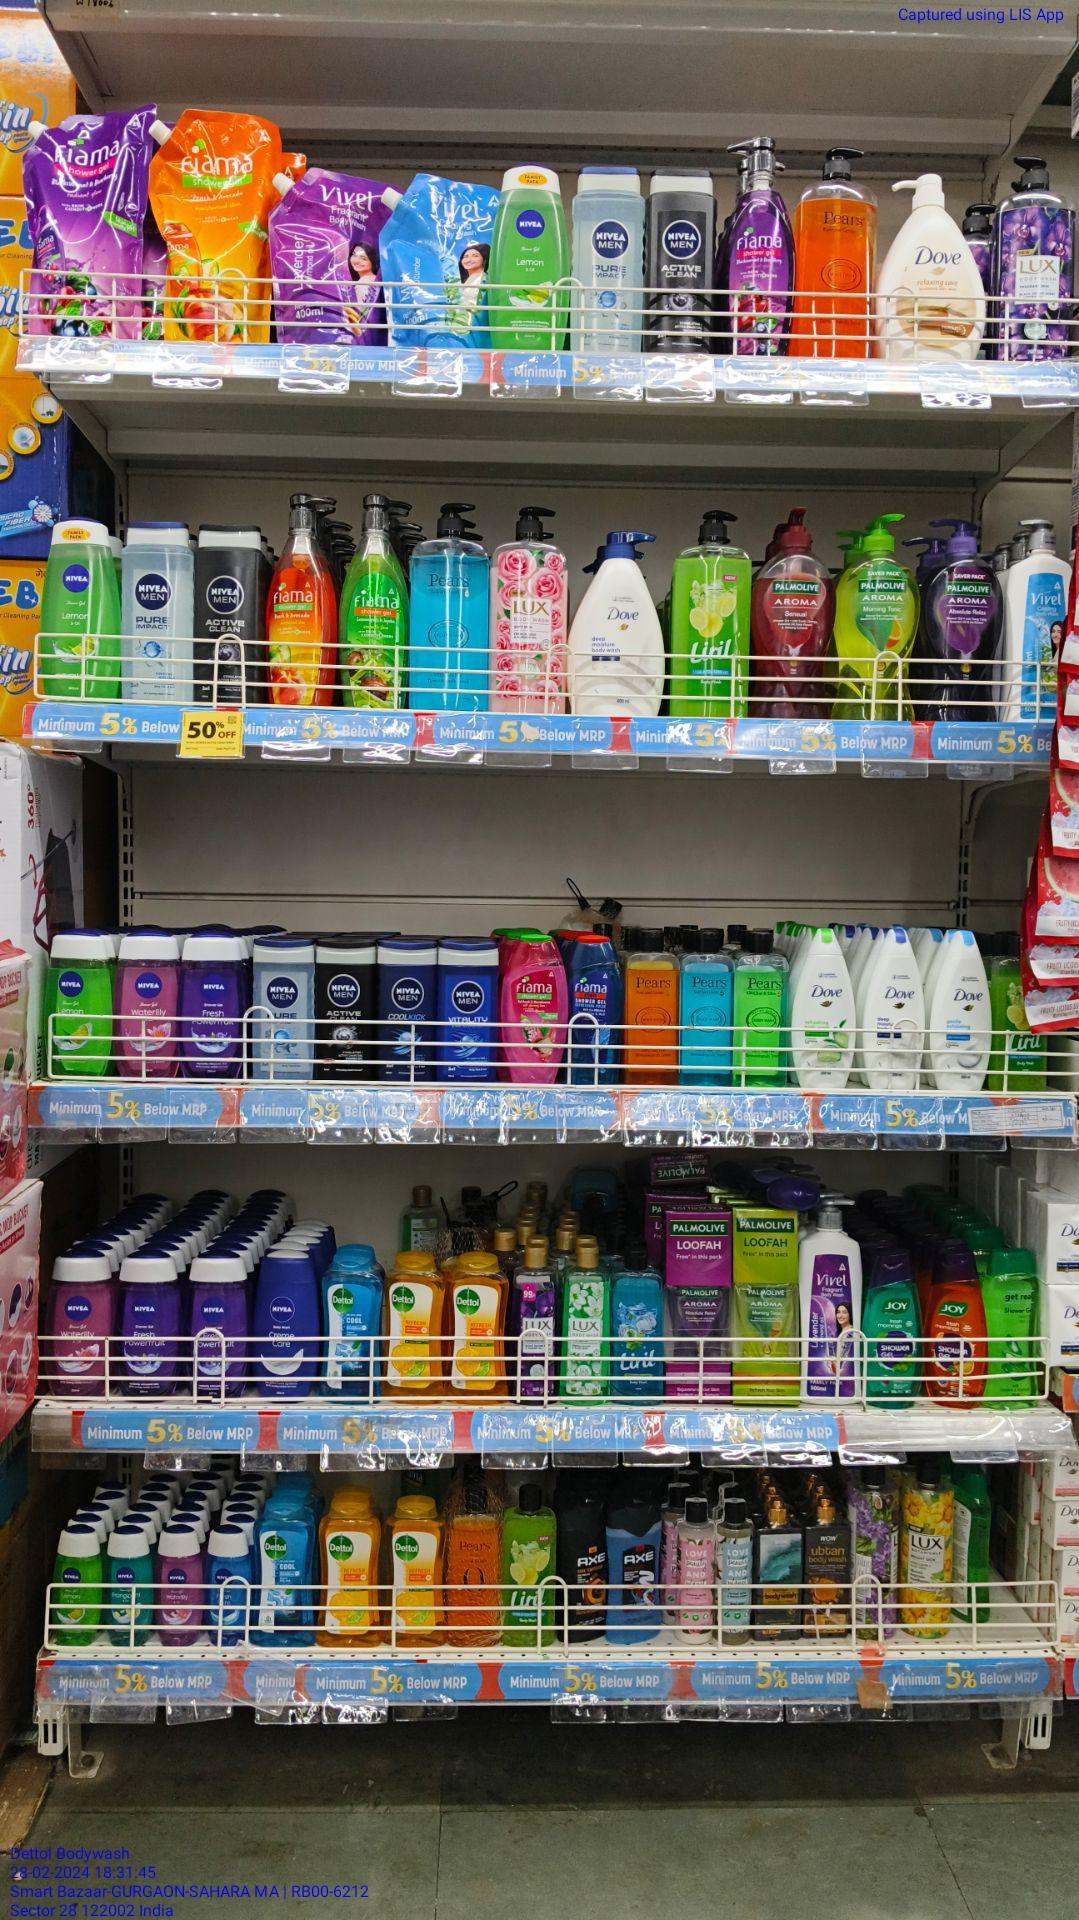Dettol_Bodywash_Cool: (253, 1494, 311, 1650), (322, 1257, 381, 1406)
Dettol_Bodywash_Refresh: (384, 1498, 445, 1650), (321, 1497, 377, 1655), (385, 1255, 442, 1407), (446, 1257, 504, 1403)
Dove_Deep_Moisture_Body_Wash_250ML: (867, 928, 926, 1093)
Dove_Gentle_Exfoliating_Body_Wash_250ML: (931, 931, 989, 1088)
Dove_Refreshing_Body_Wash_250ML: (793, 935, 855, 1098)
Fiama_Shower_Gel_Patchouli_and_Macadamia_250ML: (505, 936, 566, 1087)
Joy_Shower_Gel_Mandarin_and_Lemongrass_250ML: (927, 1253, 984, 1412)
Joy_Shower_Gel_Mint_and_Eucalyptus_250ML: (864, 1251, 921, 1411)
Liril_Cooling_Mint_Body_Wash_250ML: (611, 1245, 665, 1407)
Liril_Lime_and_Tea_Tree_Oil_Body_Wash_250ML: (501, 1486, 559, 1650)
Lux_Black_Orchid_Scent_and_Juniper_Oil_Body_Wash_245ML: (510, 1242, 555, 1406)
Lux_Body_Wash_Skin_Detox_Freesia_Scent_and_Alove_Vera_245ML: (559, 1244, 609, 1407)
Nivea_Creme_Care_Body_Wash_250ML: (251, 1254, 317, 1402)
Nivea_Shower_Gel_Fresh_Powerfruit_250ML: (187, 1251, 244, 1403), (120, 1251, 178, 1399)
Nivea_Shower_Gel_Lemon_and_Oil_250ML: (495, 158, 571, 351), (44, 930, 112, 1080)
Nivea_Shower_Gel_Waterlily_and_Oil_250ML: (45, 1247, 111, 1404), (182, 934, 249, 1080), (115, 931, 178, 1080)
Pears_Pure_Glycerin_and_Mint_Extracts_Body_Wash_250ML: (681, 926, 735, 1089)
